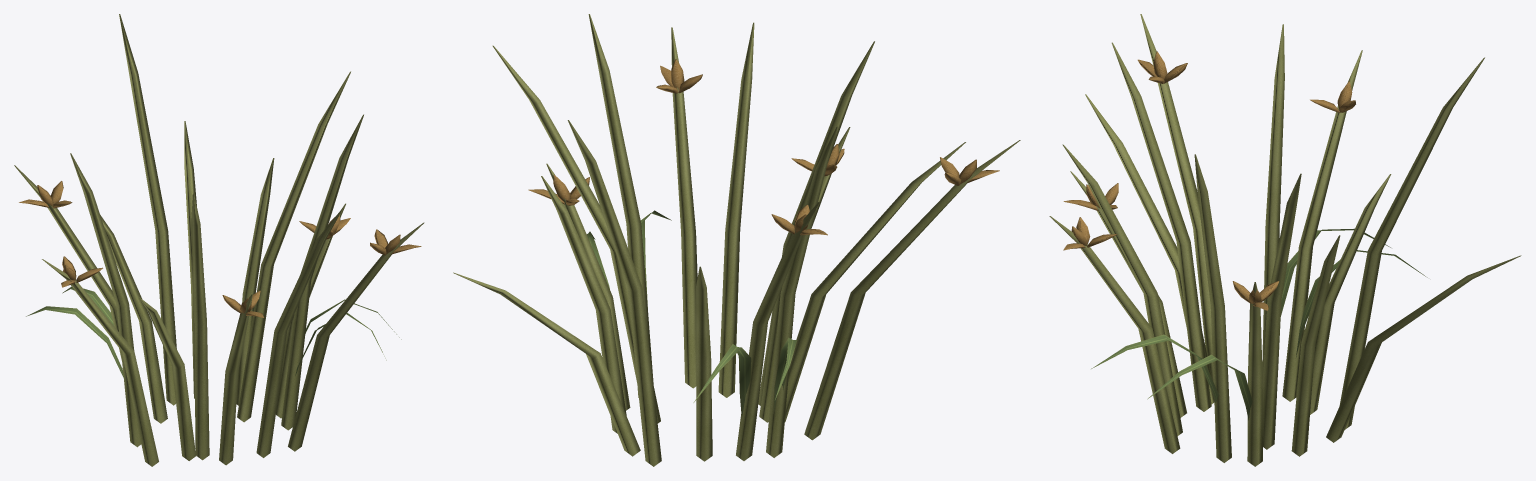
The model's file is marsh-clubrush.glb.
The picture shows the model from 3 angles, left to right: view 1: azimuth 30°, elevation 25°; view 2: azimuth 150°, elevation 25°; view 3: azimuth 270°, elevation 25°; orthographic projection. The views are drawn at different scales.
Parts seen in each view (by area): view 1: Triangular rush culms and lateral spikelets; view 2: Triangular rush culms and lateral spikelets; view 3: Triangular rush culms and lateral spikelets.
Part boxes in pixels (<box>): Triangular rush culms and lateral spikelets: <box>14,14,424,466</box>; Triangular rush culms and lateral spikelets: <box>453,14,1020,466</box>; Triangular rush culms and lateral spikelets: <box>1049,14,1521,466</box>.
Size of the model in its own units: 0.6516 by 0.5526 by 0.6328.
1 material, 1 textured.
